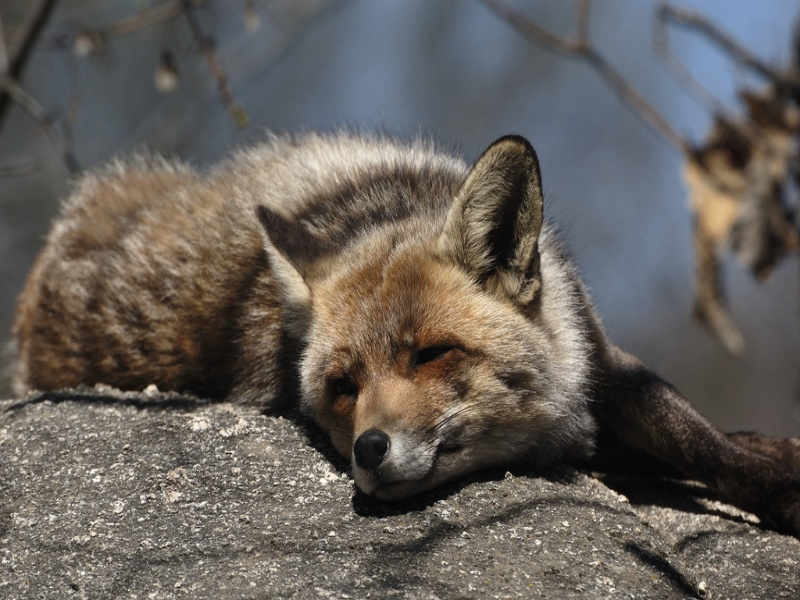fox: (15, 123, 786, 526)
